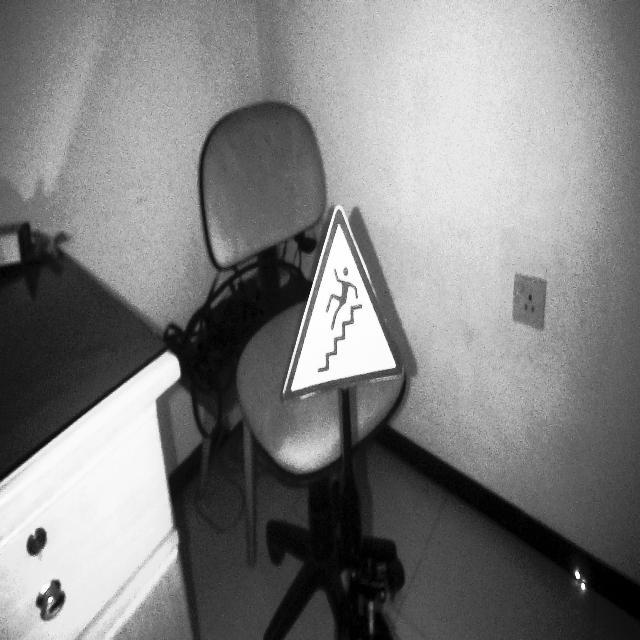Sign: (282, 203, 405, 403)
